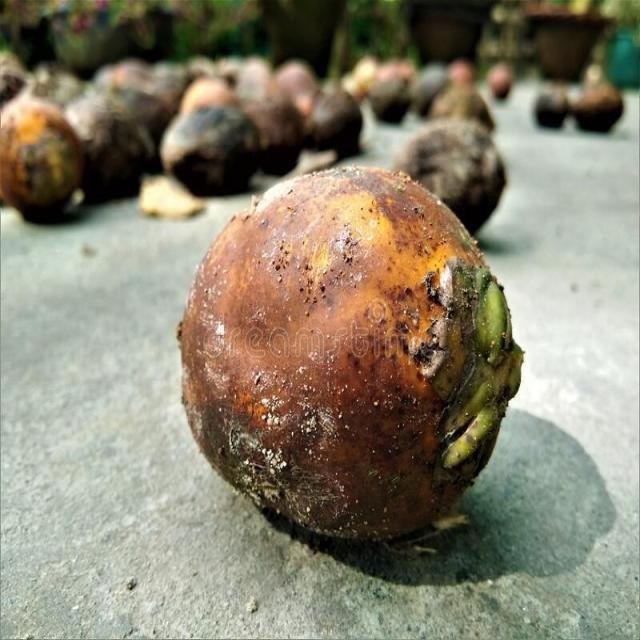damaged: (178, 167, 523, 540)
